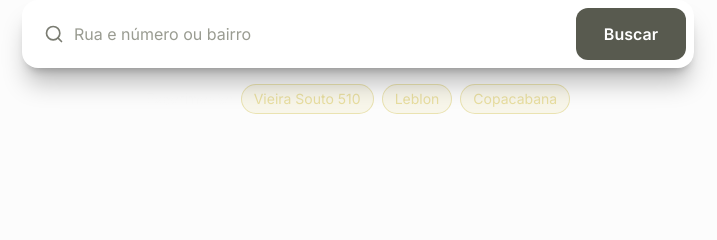
BuscaMoraMetrica › mostra sugestões e escolhe pelo teclado, já com o número digitado
Type "vieira souto 510" into the dropdown at (300, 34), box left=30, top=8, right=570, bottom=60
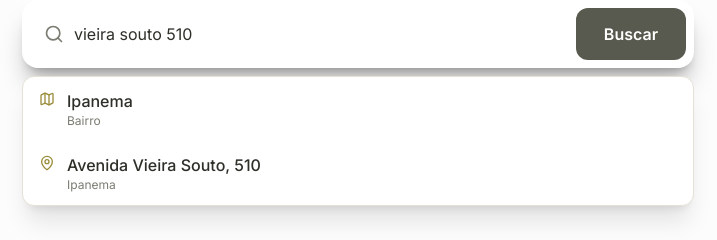
Expected: the number of options is 2, left=39, top=91, right=133, bottom=128; left=39, top=155, right=261, bottom=192
Press Arrowdown Arrowdown Enter
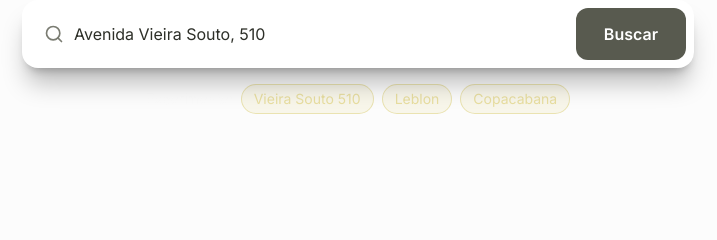
Expected: the dropdown holds "Avenida Vieira Souto, 510", left=30, top=8, right=570, bottom=60
